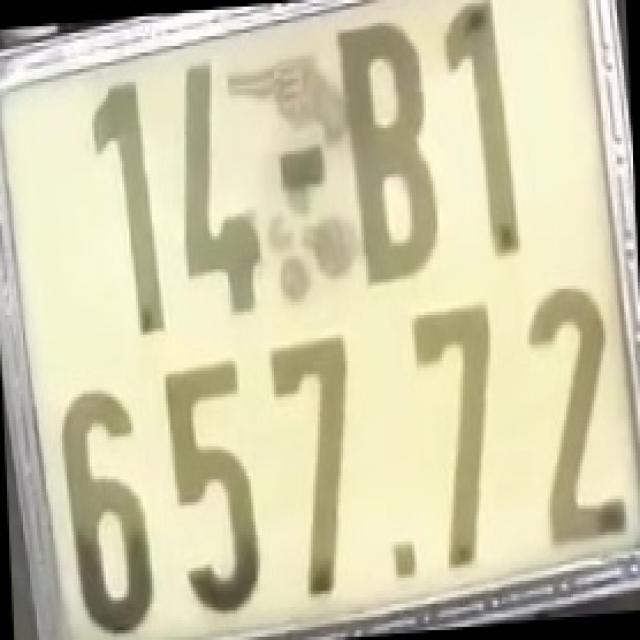1: (83, 68, 168, 342), (442, 3, 532, 260)
2: (520, 276, 633, 552)
4: (173, 52, 269, 322)
5: (161, 351, 265, 617)
6: (57, 384, 156, 634)
7: (405, 292, 502, 574), (269, 328, 357, 601)
B: (330, 13, 444, 289)
